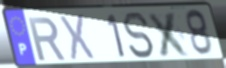1: (105, 13, 127, 59)
8: (184, 8, 214, 59)
R: (26, 16, 68, 63)
S: (121, 11, 157, 60)
X: (146, 10, 193, 58), (58, 13, 97, 62)
